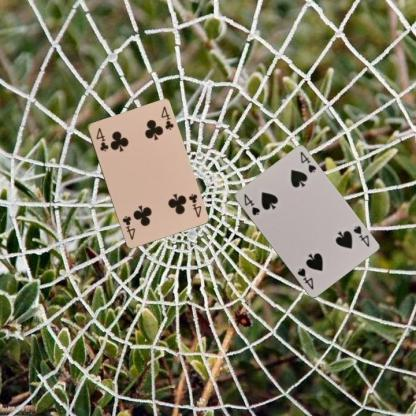4c: (93, 125, 110, 152), (186, 191, 202, 218)
4s: (241, 191, 261, 217), (351, 223, 370, 248)
